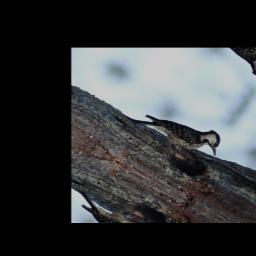Woodpecker: (122, 94, 230, 177)
